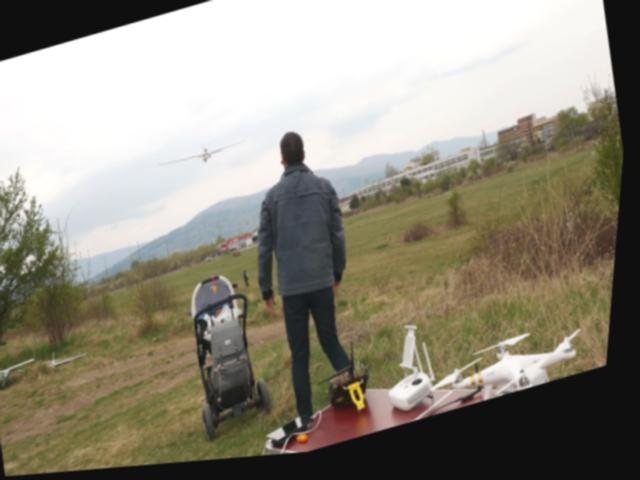plane: (159, 135, 252, 178)
